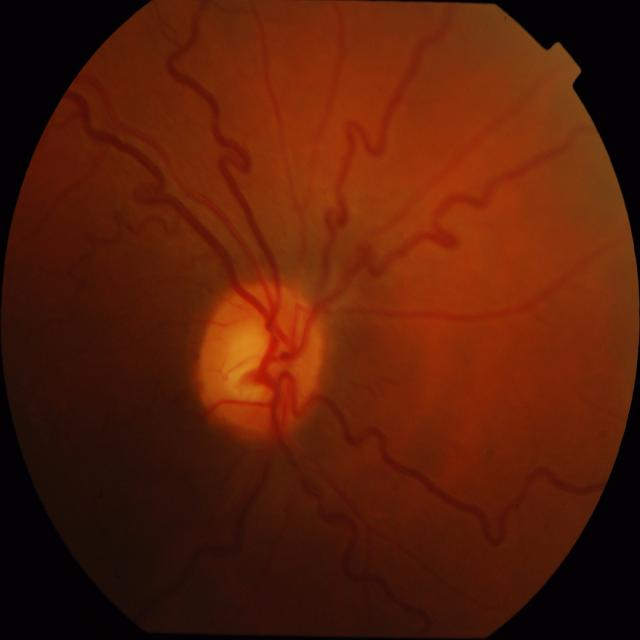OC: (218, 311, 298, 406)
OD: (196, 281, 325, 436)
